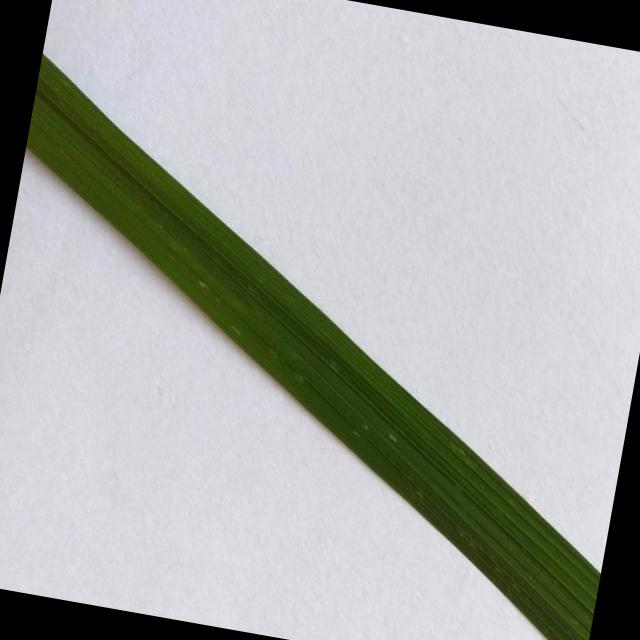Rice_Healthy: (26, 55, 600, 640)
